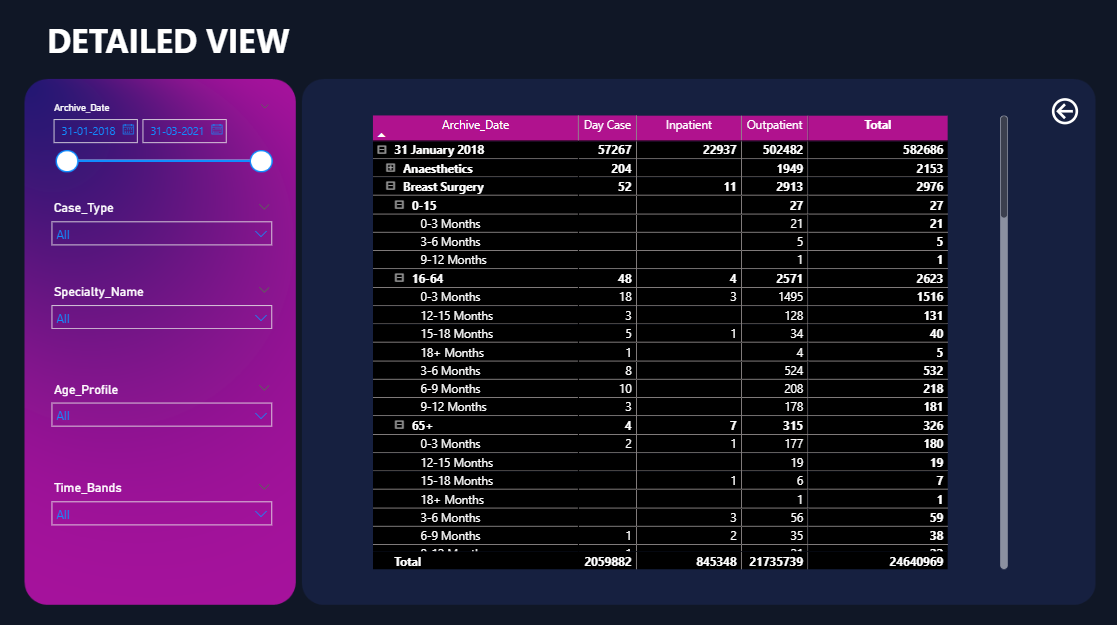

The dashboard page shown, as its layout file describes it:
{"tool":"powerbi","page":{"name":"Detailed","canvas":[1280,720],"ordinal":1},"visuals":[{"type":"slicer","fields":{"Values":["All_Data.Archive_Date"]},"box":[48.6,111.4,271.4,97.1],"z":0},{"type":"slicer","fields":{"Values":["All_Data.Case_Type"]},"box":[48,224,272,80],"z":1000},{"type":"slicer","fields":{"Values":["All_Data.Specialty_Name"]},"box":[48,320,272,96],"z":2000},{"type":"textbox","box":[48,16,288,64],"z":3000},{"type":"slicer","fields":{"Values":["All_Data.Age_Profile"]},"box":[48,432,272,96],"z":4000},{"type":"slicer","fields":{"Values":["All_Data.Time_Bands"]},"box":[48,544,272,96],"z":5000},{"type":"pivotTable","fields":{"Rows":["All_Data.Archive_Date","All_Data.Specialty_Name","All_Data.Age_Profile","All_Data.Time_Bands"],"Columns":["All_Data.Case_Type"],"Values":["Sum(All_Data.Total)"]},"box":[421.4,127.1,735.7,528.6],"z":6000},{"type":"actionButton","box":[1197.1,107.1,50,40],"z":7000}]}

Visuals, with their boxes in screenshot pixels (x1, y1, x2, y2), scaled from the page's 1280x720 canvas onto the 1117x625 screenshot:
slicer - All_Data.Archive_Date: 42:97:279:181
slicer - All_Data.Case_Type: 42:194:279:264
slicer - All_Data.Specialty_Name: 42:278:279:361
textbox: 42:14:293:69
slicer - All_Data.Age_Profile: 42:375:279:458
slicer - All_Data.Time_Bands: 42:472:279:556
pivotTable - All_Data.Archive_Date x All_Data.Specialty_Name: 368:110:1010:569
actionButton: 1045:93:1088:128
